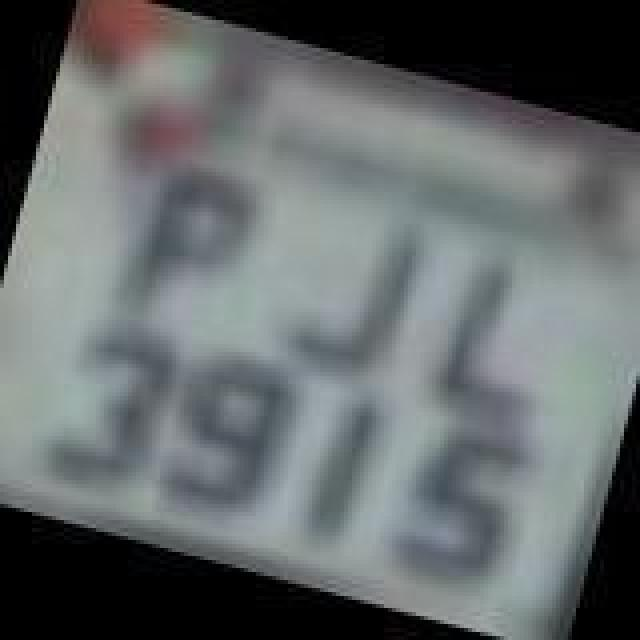1: (292, 384, 396, 552)
3: (36, 314, 188, 502)
5: (392, 416, 536, 600)
9: (160, 348, 304, 532)
J: (274, 198, 430, 394)
L: (426, 240, 574, 432)
P: (112, 156, 256, 340)
